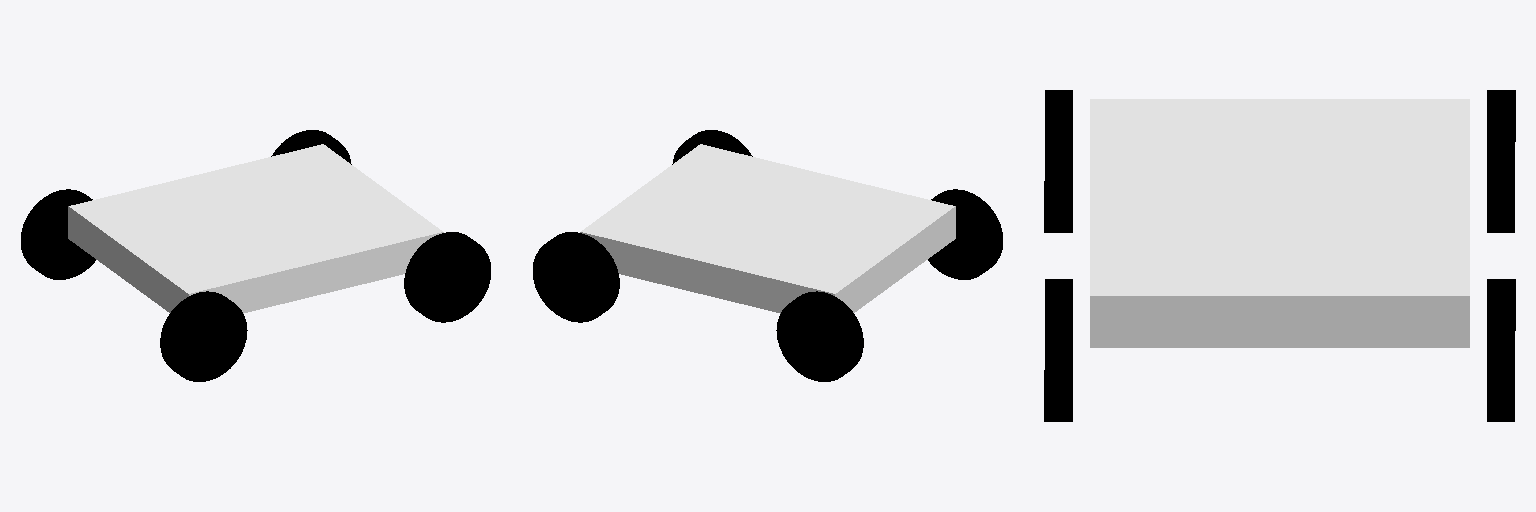
The robot description file, URDF, robot "wheeltec_robot":
<?xml version="1.0" ?>
<robot name="wheeltec_robot">

    <link name="base_link">
        <visual>
            <origin xyz=" 0 0 0.15" rpy="0 0 0" />
            <geometry>
                <box size="0.65 0.53 0.08"/>
            </geometry>
            <material name="white">
                <color rgba="1 1 1 1"/>
            </material>
        </visual>
    </link>   

    <joint name="left_wheel_joint" type="continuous">
        <origin xyz="-0.311 0.308 0.1" rpy="1.57 0 0"/>
        <parent link="base_link"/>
        <child link="left_wheel_link"/>
        <axis xyz="0 1 0"/>
    </joint>

    <link name="left_wheel_link">
        <visual>
            <origin xyz="0 0 0" rpy="0 0 0" />
            <geometry>
                <cylinder radius="0.1" length = "0.04"/>
            </geometry>
            <material name="black">
                <color rgba="0 0 0 1"/>
            </material>
        </visual>
    </link>

    <joint name="right_wheel_joint" type="continuous">
        <origin xyz="-0.311 -0.308 0.1" rpy="1.57 0 0"/>
        <parent link="base_link"/>
        <child link="right_wheel_link"/>
        <axis xyz="0 1 0"/>
    </joint>

    <link name="right_wheel_link">
        <visual>
            <origin xyz="0 0 0" rpy="0 0 0" />
            <geometry>
                <cylinder radius="0.1" length = "0.04"/>
            </geometry>
            <material name="black">
                <color rgba="0 0 0 1"/>
            </material>
        </visual>
    </link>

      <joint name="left_front_joint" type="continuous">
        <origin xyz="0.311 0.308 0.1" rpy="1.57 0 0"/>
        <parent link="base_link"/>
        <child link="left_front_link"/>
        <axis xyz="0 1 0"/>
    </joint>

    <link name="left_front_link">
        <visual>
            <origin xyz="0 0 0" rpy="0 0 0" />
            <geometry>
                <cylinder radius="0.1" length = "0.04"/>
            </geometry>
            <material name="black">
                <color rgba="0 0 0 1"/>
            </material>
        </visual>
    </link>

    <joint name="right_front_joint" type="continuous">
        <origin xyz="0.311 -0.308 0.1" rpy="1.57 0 0"/>
        <parent link="base_link"/>
        <child link="right_front_link"/>
        <axis xyz="0 1 0"/>
    </joint>

    <link name="right_front_link">
        <visual>
            <origin xyz="0 0 0" rpy="0 0 0" />
            <geometry>
                <cylinder radius="0.1" length = "0.04"/>
            </geometry>
            <material name="black">
                <color rgba="0 0 0 1"/>
            </material>
        </visual>
    </link>


</robot>

--- Render facts (derived) ---
3 views of the same robot in one strip: view 1: azimuth 30°, elevation 25°; view 2: azimuth 150°, elevation 25°; view 3: azimuth 270°, elevation 25° (orthographic).
Robot: wheeltec_robot — 5 links, 4 joints (4 continuous); root link base_link; default pose: every joint at zero.
Links seen in each view (by area): view 1: base_link, right_front_link, right_wheel_link, left_wheel_link, left_front_link; view 2: base_link, left_front_link, left_wheel_link, right_wheel_link, right_front_link; view 3: base_link, left_wheel_link, right_wheel_link, left_front_link, right_front_link.
Link boxes in pixels (left/top/right/bottom): base_link: left=68, top=144, right=443, bottom=313; right_front_link: left=404, top=232, right=490, bottom=322; right_wheel_link: left=160, top=291, right=247, bottom=381; left_wheel_link: left=21, top=189, right=95, bottom=279; left_front_link: left=271, top=130, right=351, bottom=164; base_link: left=580, top=144, right=955, bottom=313; left_front_link: left=533, top=232, right=619, bottom=322; left_wheel_link: left=776, top=291, right=863, bottom=381; right_wheel_link: left=928, top=189, right=1002, bottom=279; right_front_link: left=672, top=130, right=752, bottom=164; base_link: left=1090, top=99, right=1469, bottom=347; left_wheel_link: left=1487, top=90, right=1515, bottom=232; right_wheel_link: left=1044, top=90, right=1072, bottom=232; left_front_link: left=1487, top=279, right=1515, bottom=421; right_front_link: left=1044, top=279, right=1072, bottom=421.
Bounding box of the posed robot: 0.822 × 0.6562 × 0.2 m (x, y, z).
Geometry: primitives only (box / cylinder / sphere), no mesh files.